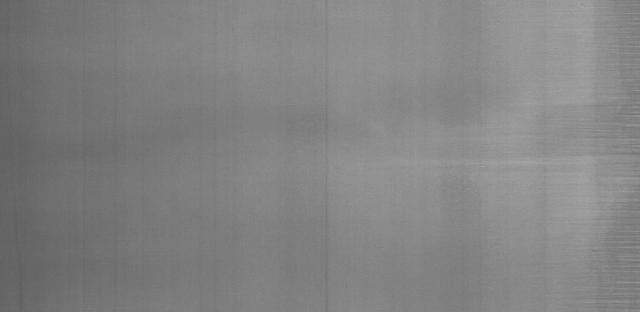waist_folding: (506, 15, 640, 282)
